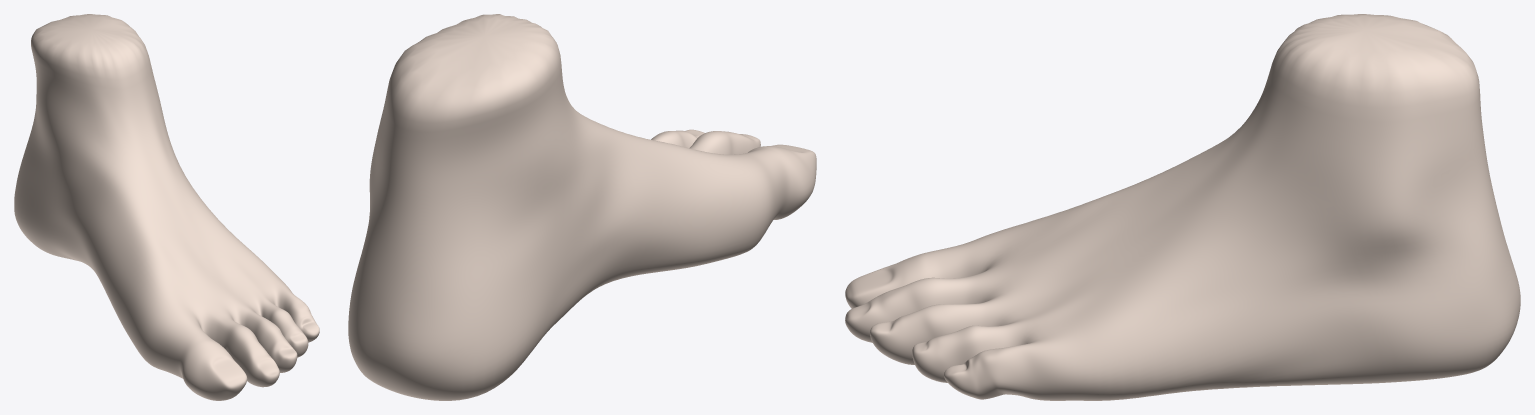
File: foot-v2.glb
The picture shows the model from 3 angles, left to right: view 1: azimuth 30°, elevation 25°; view 2: azimuth 150°, elevation 25°; view 3: azimuth 270°, elevation 25°; orthographic projection. The views are drawn at different scales.
Parts seen in each view (by area): view 1: PieIzquierdo; view 2: PieIzquierdo; view 3: PieIzquierdo.
Boxes of the visible parts, <box> form: PieIzquierdo: <box>14,14,319,400</box>; PieIzquierdo: <box>348,14,816,400</box>; PieIzquierdo: <box>845,14,1520,400</box>.
Size of the model in its own units: 9.44 by 12.85 by 24.04.
